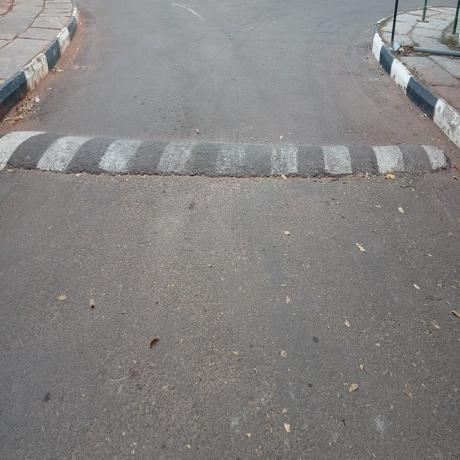Speed Bump: (0, 128, 453, 183)
